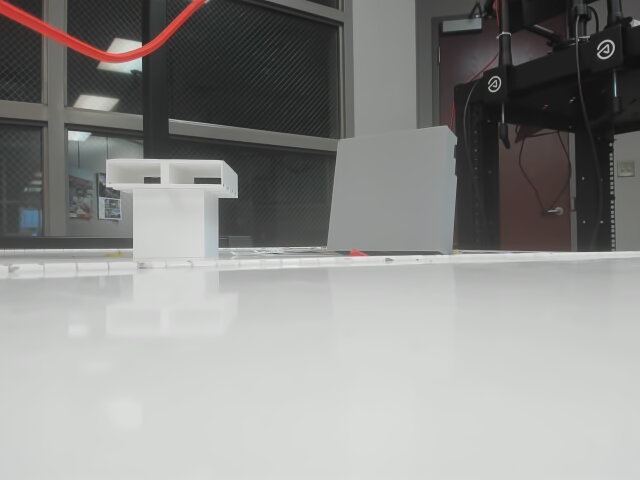grey pallet: (321, 121, 473, 261)
white pallet: (101, 150, 241, 266)
